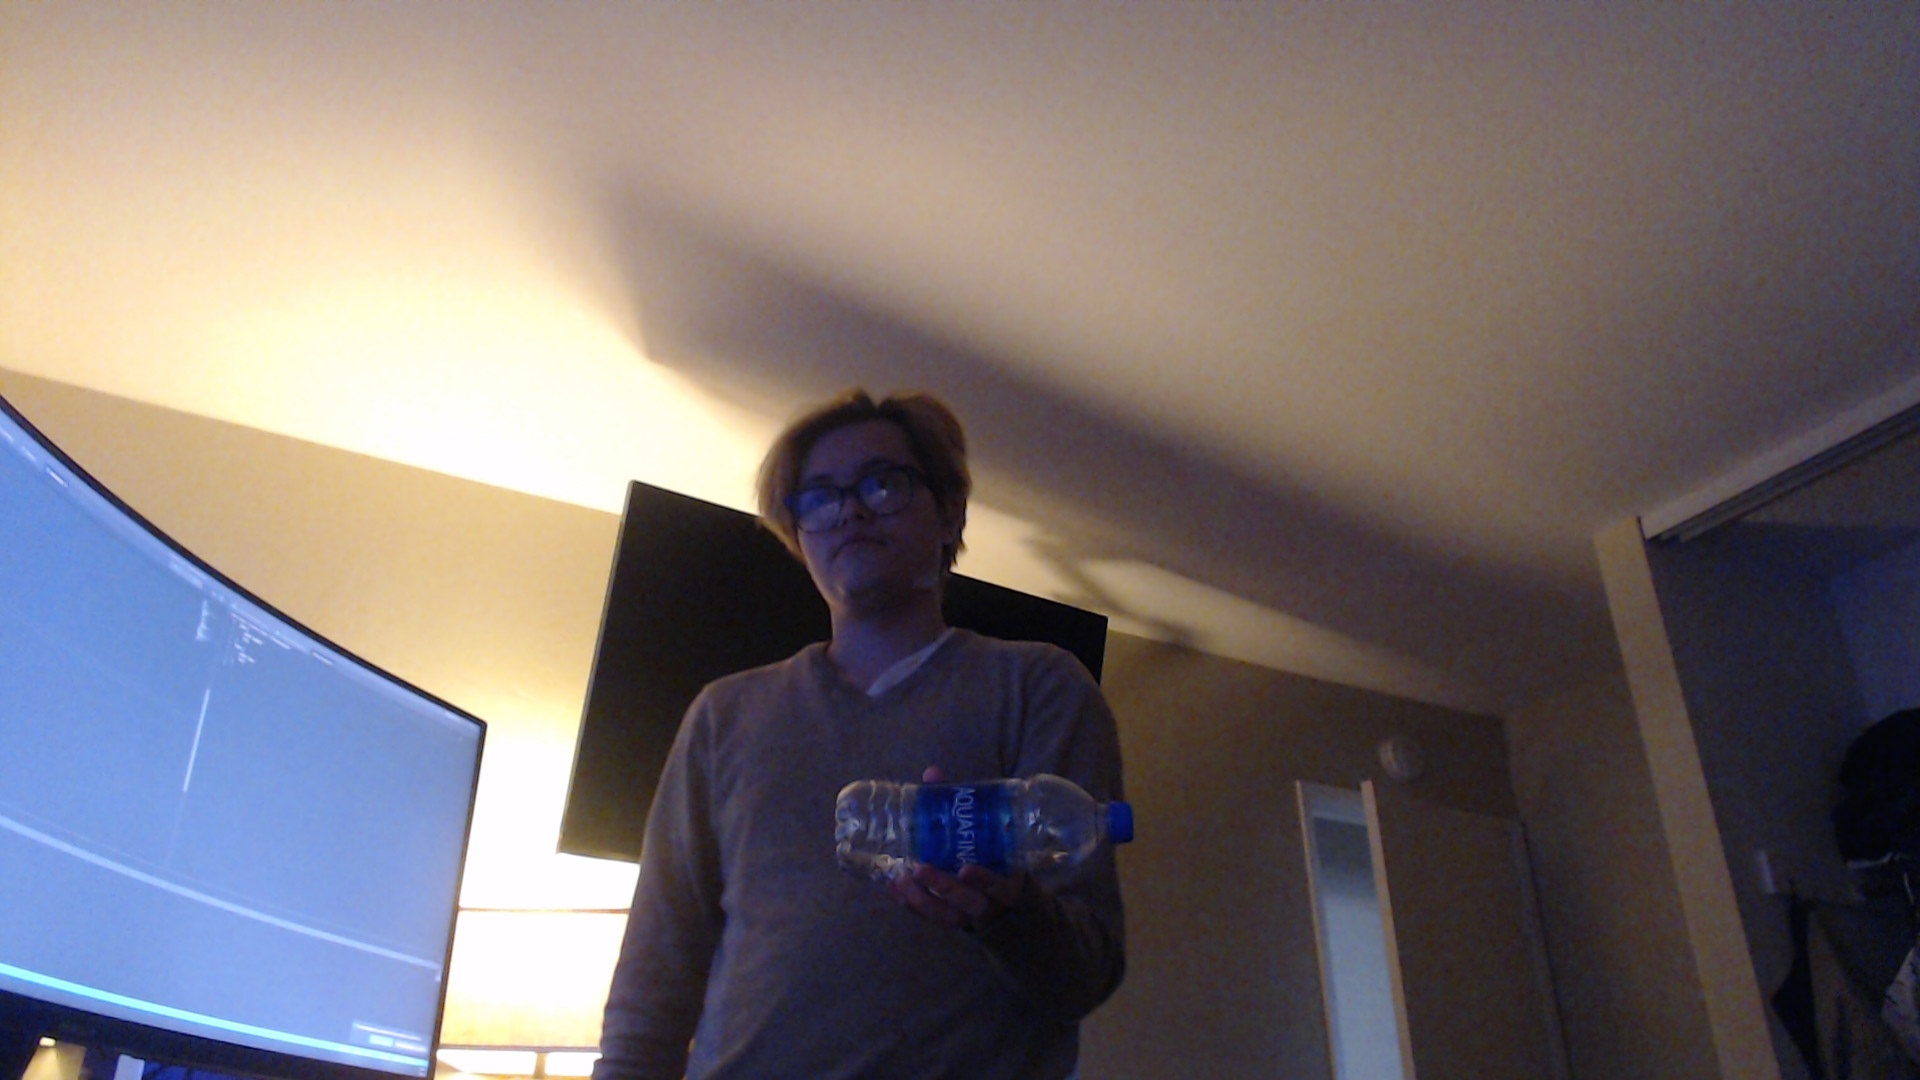bottle: (840, 773, 1137, 884)
